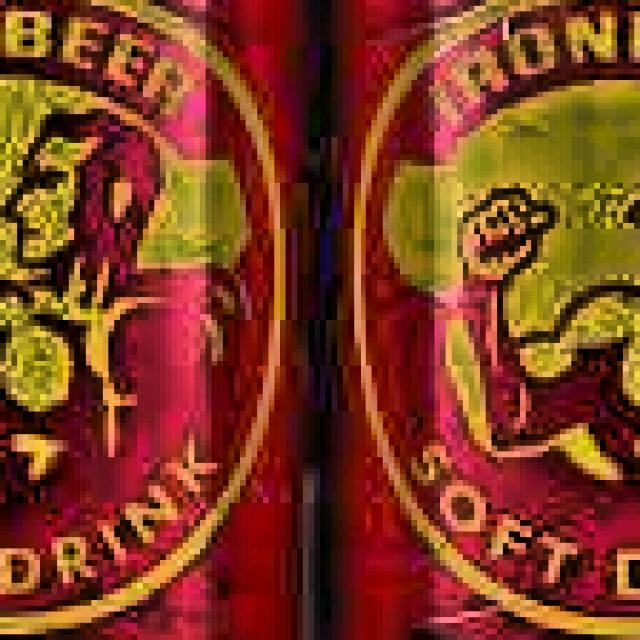metal: (320, 0, 640, 640), (0, 0, 314, 640)
